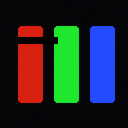3 line_h: (17, 37, 57, 43)
